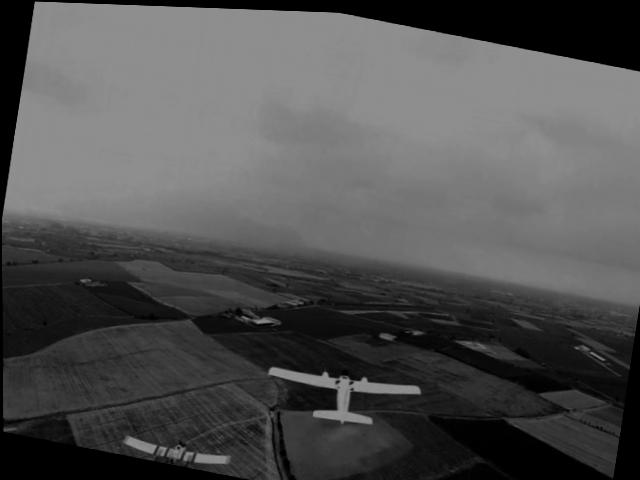hedef: (257, 346, 426, 445), (110, 421, 236, 475)
